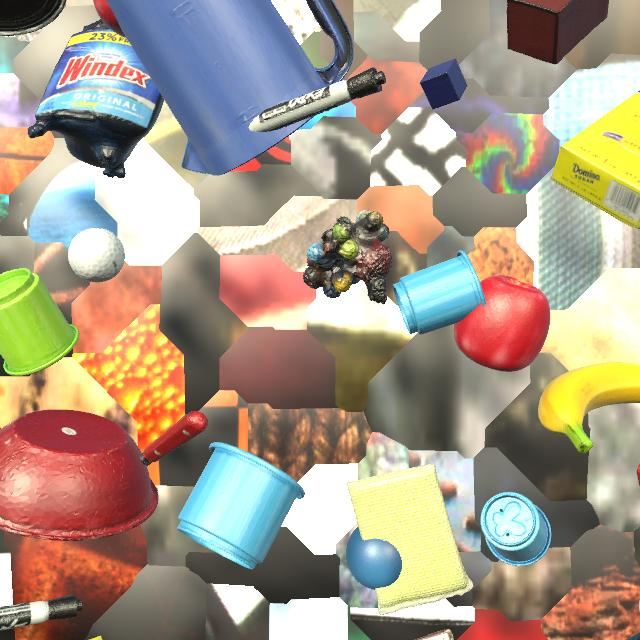ycb_002_master_chef_can: (0, 0, 66, 36)
ycb_004_sugar_box: (551, 90, 640, 229), (89, 636, 102, 640)
ycb_008_pudding_box: (415, 629, 454, 640)
ycb_011_banana: (538, 362, 640, 454)
ycb_013_apple: (454, 275, 550, 372), (93, 0, 126, 38)
